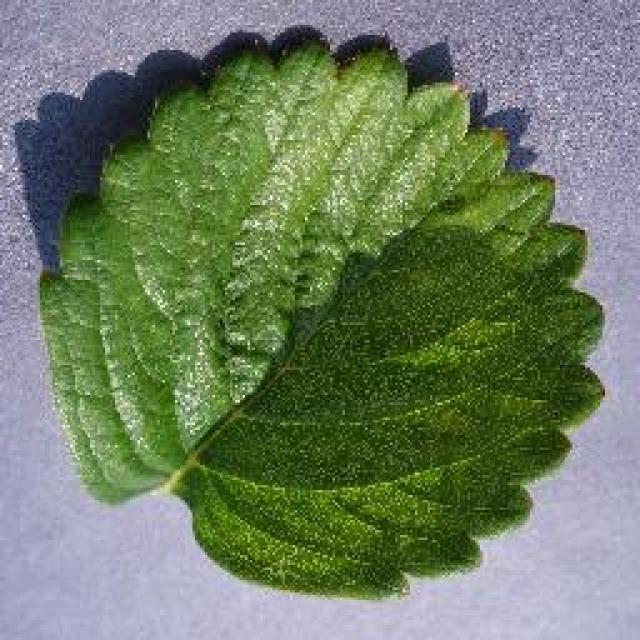Strawberry___healthy: (28, 5, 620, 625)
